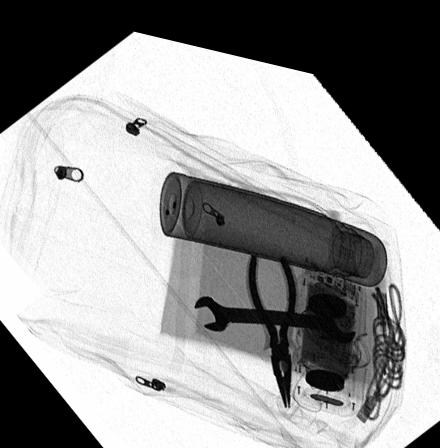Pliers: (244, 238, 298, 395)
Powerbank: (287, 247, 365, 390)
Wrench: (192, 286, 355, 329)
